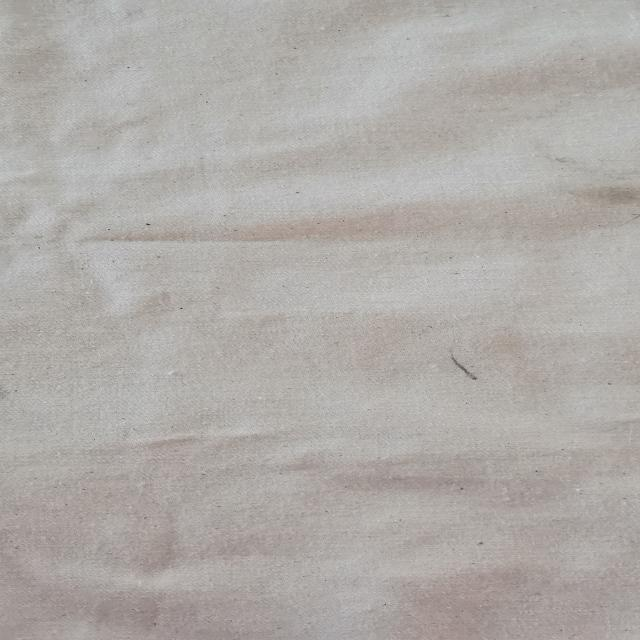taaaches: (424, 334, 502, 388), (550, 176, 640, 219)
